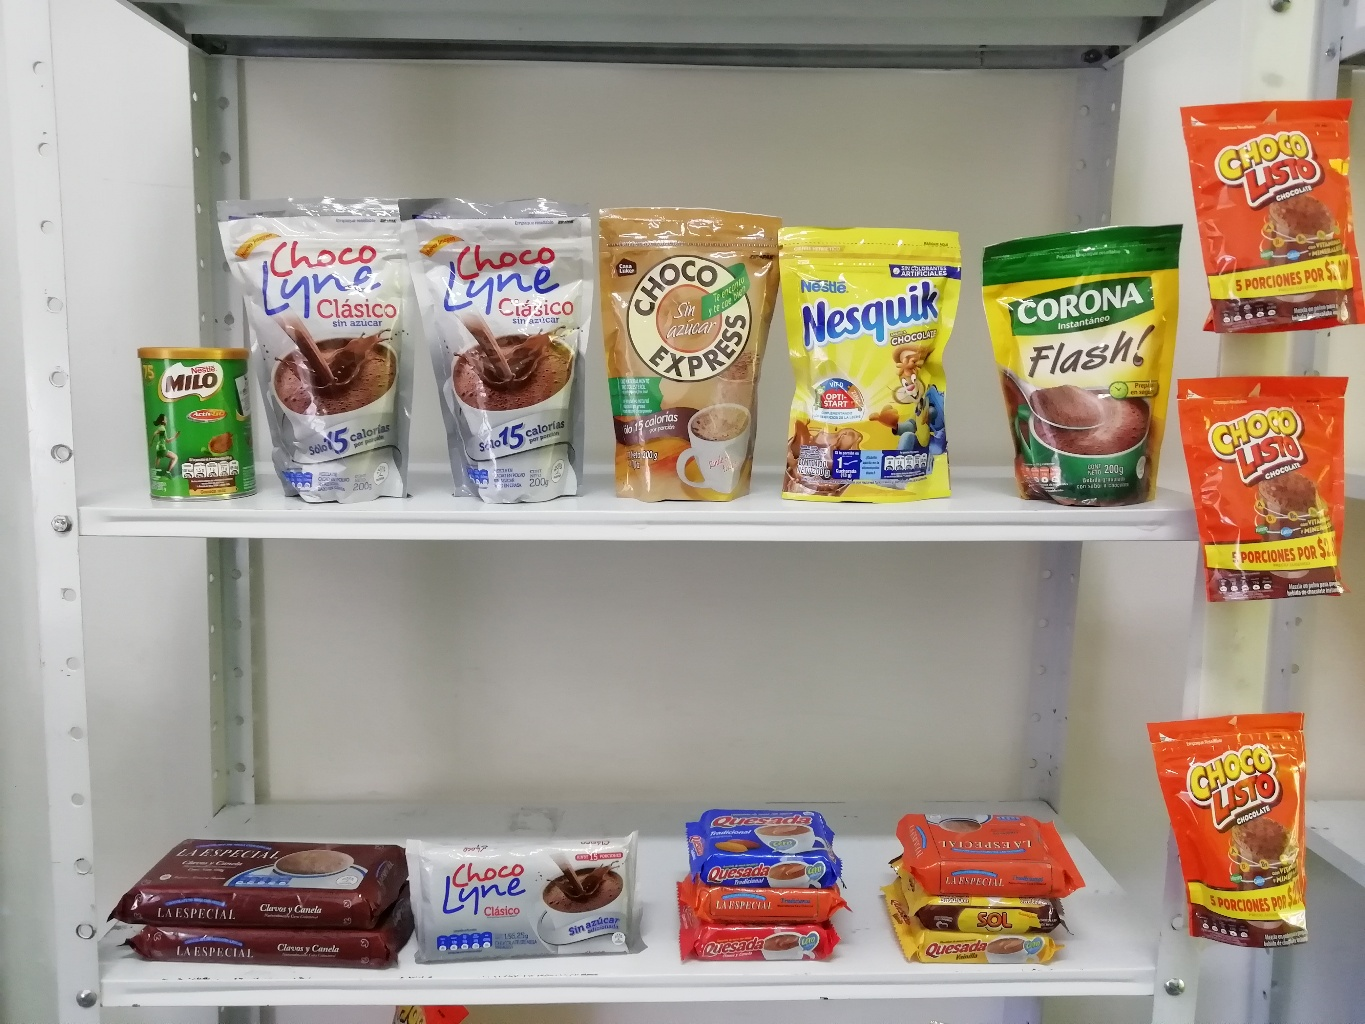COL0170203LAT20000: (131, 337, 258, 503)
